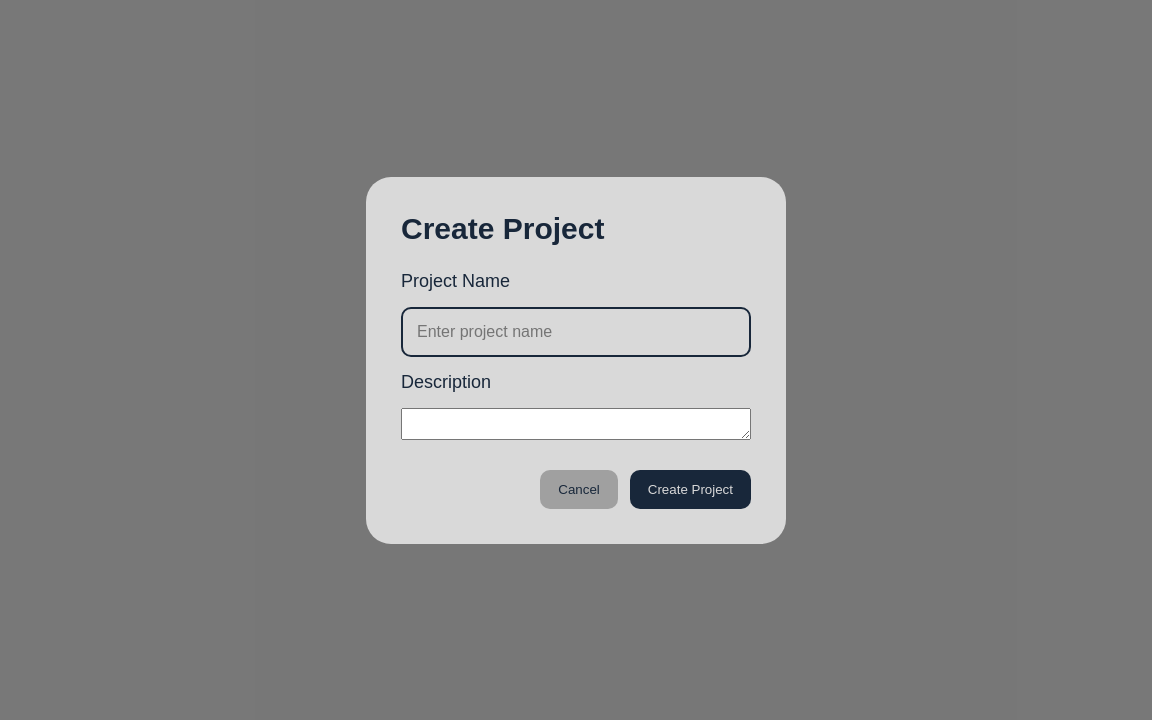
it: CreateProjectForm › displays a fallback error message
The image size is (1152, 720).
Step 1. Type "Quantix" into the field labelled "Project Name" → (576, 332), box x1=401 y1=306 x2=751 y2=356
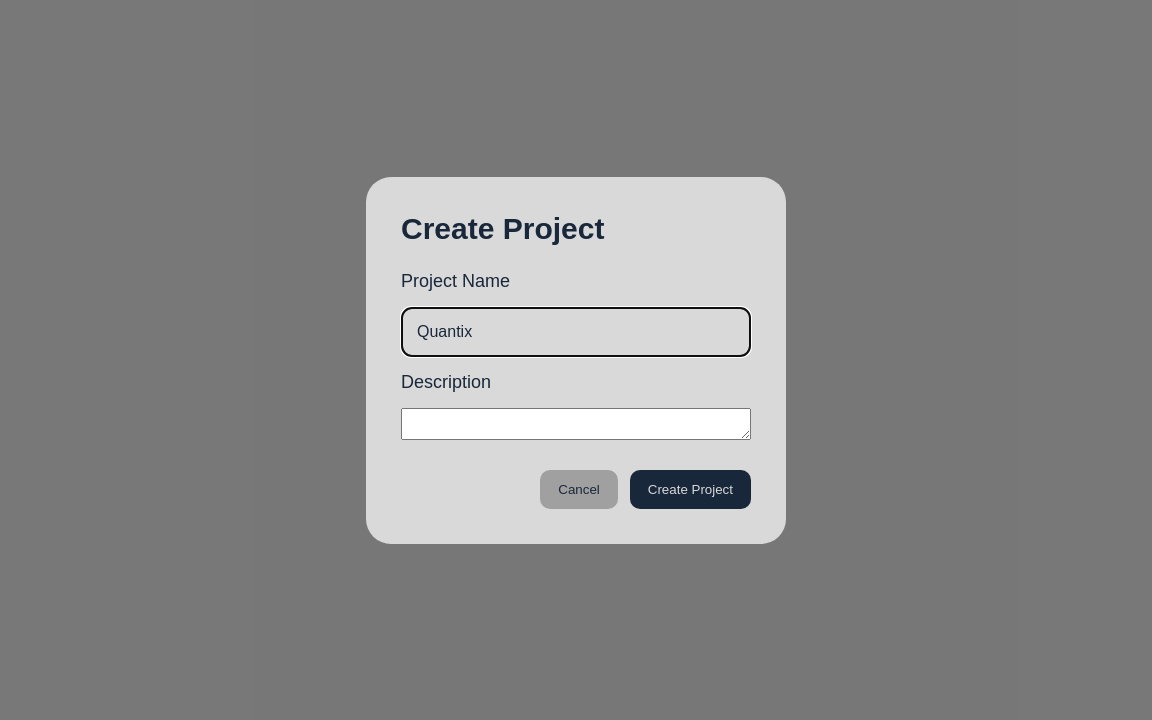
Step 2. Click the button "Create Project" → click(690, 489), box x1=630 y1=470 x2=751 y2=508
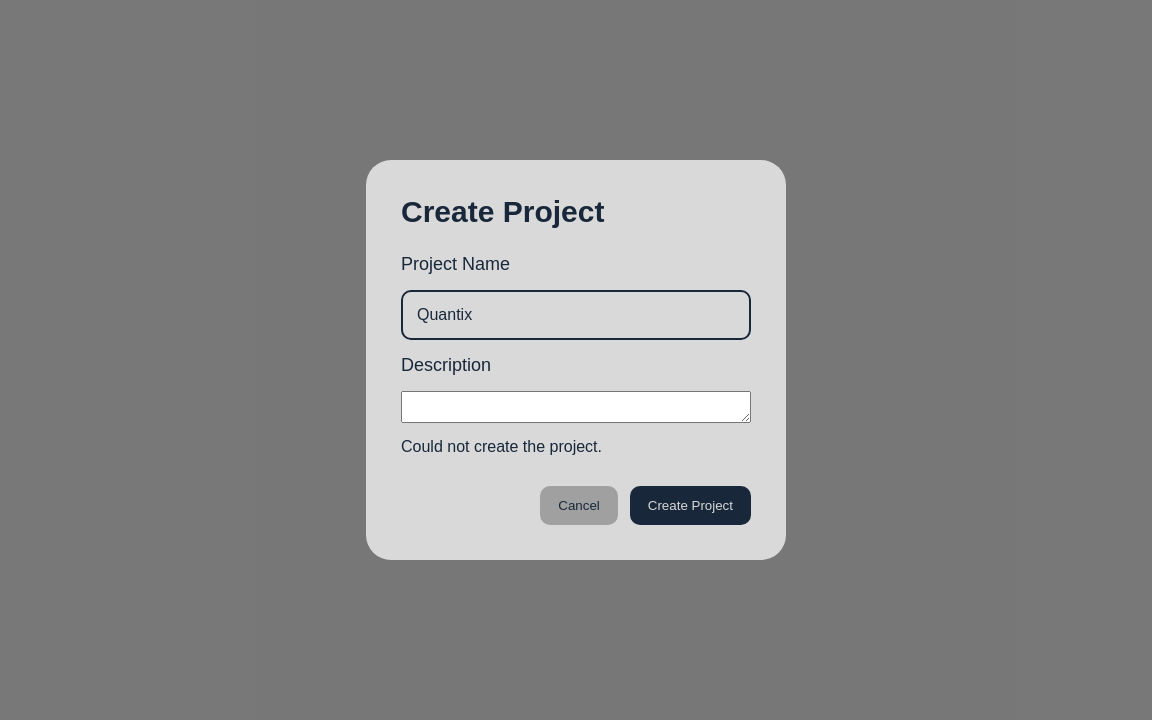
Expected: the message reads "Could not create the project.", x1=401 y1=438 x2=602 y2=455
